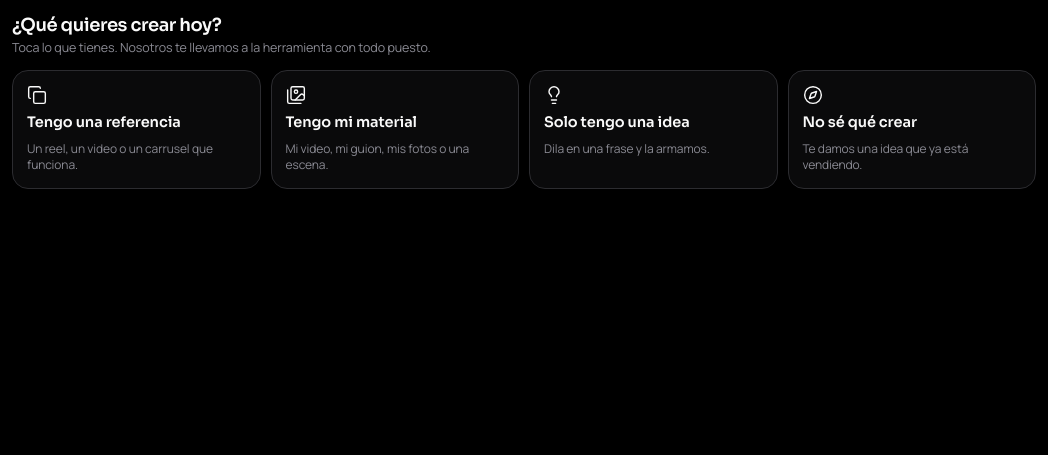
Scenario: ¿Qué quieres crear hoy? · 4 entradas por lo que tienes (Guardián del Creador) › idea: entiende la pieza, muestra el costo y abre SIN generar
Later steps or results of the test are not shown.
Click the text "Solo tengo una idea". click: (617, 123)
box: [544,113,690,133]
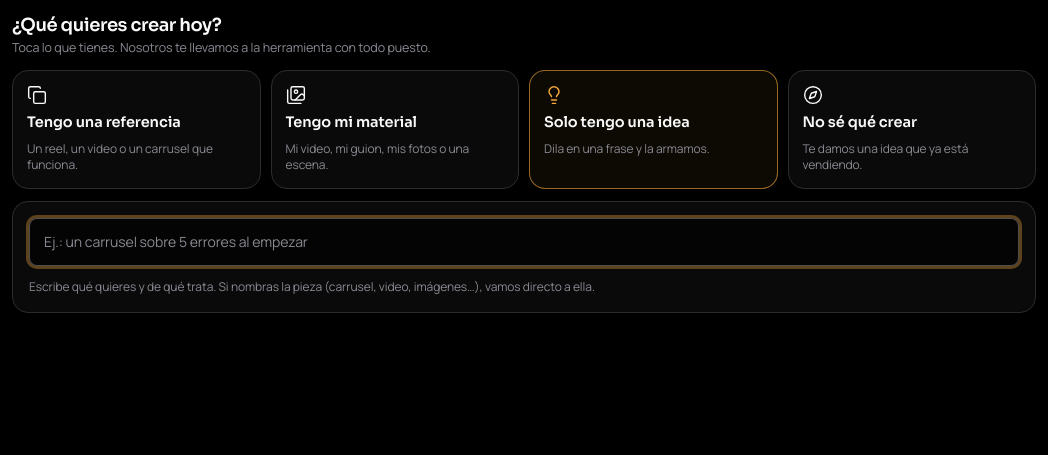
Type "un carrusel sobre 5 errores al congelar" into the field named "Tu idea". click: (524, 242)
box: [29,218,1019,266]
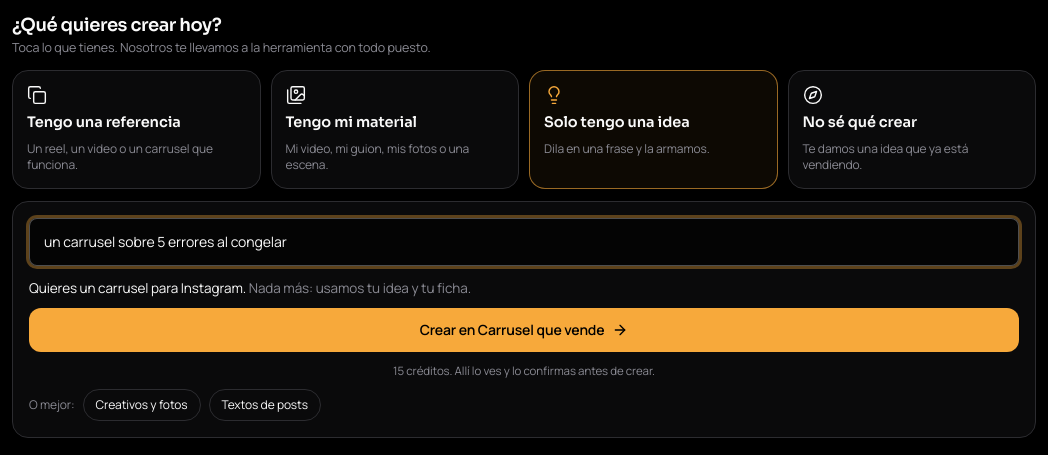
Expected: the text "Quieres un carrusel" is shown, [29,279,246,297]
